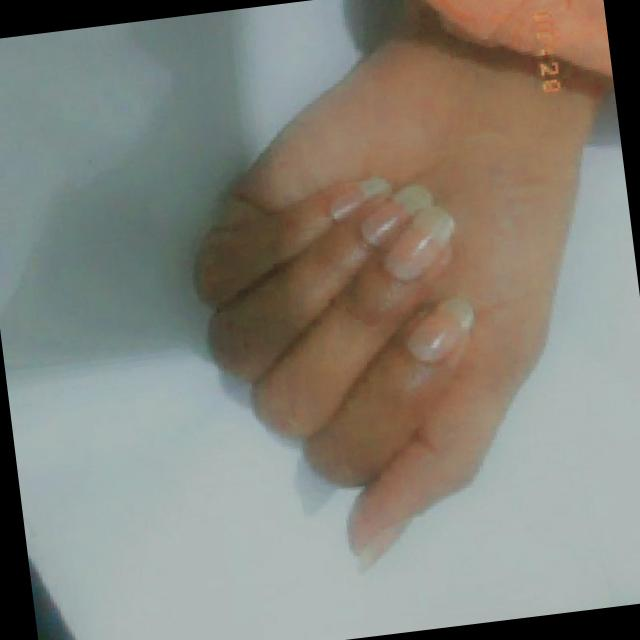Nail: (382, 204, 453, 279), (360, 183, 432, 245), (406, 297, 473, 361), (329, 176, 390, 220), (357, 519, 409, 570)
